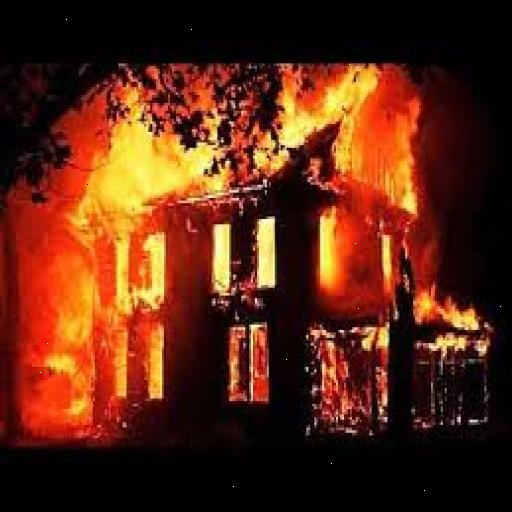fire: (32, 60, 438, 440)
